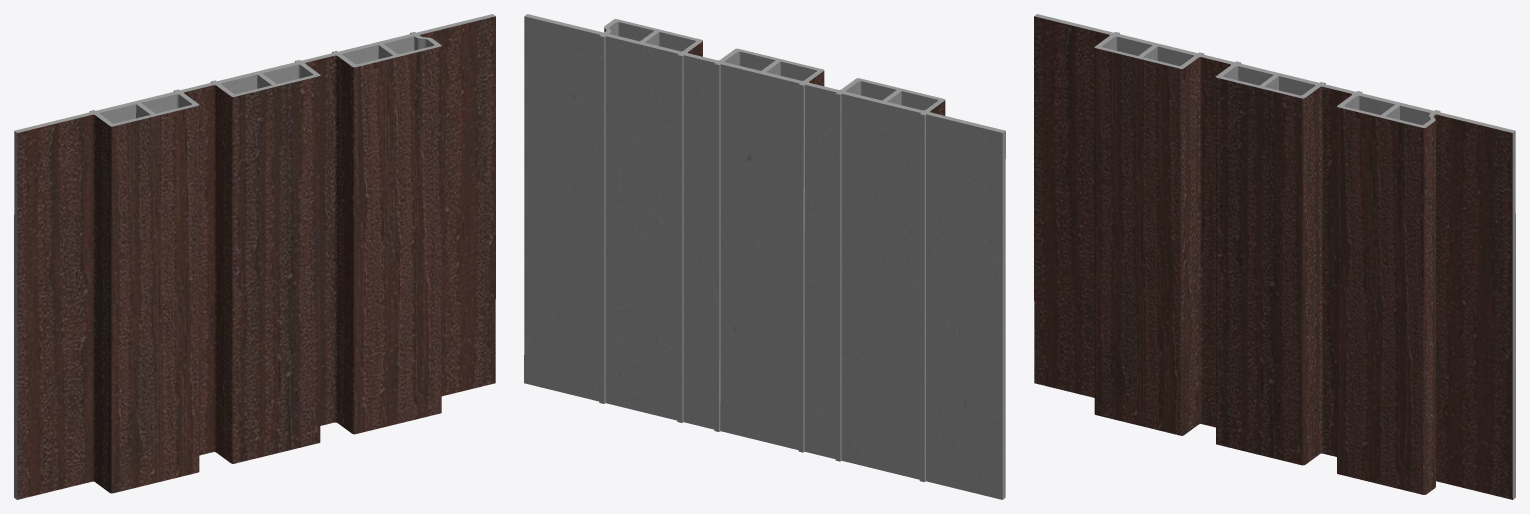
File: embrossluceviz.glb
The picture shows the model from 3 angles, left to right: view 1: azimuth 30°, elevation 25°; view 2: azimuth 150°, elevation 25°; view 3: azimuth 330°, elevation 25°; orthographic projection.
Parts seen in each view (by area): view 1: Plane.007; view 2: Plane.007; view 3: Plane.007.
Part boxes in pixels (box(x1,y1,x2,y2)): Plane.007: box(14, 14, 495, 499); Plane.007: box(524, 14, 1005, 499); Plane.007: box(1034, 14, 1515, 499).
Bounding box in the file's own units: 10.06 × 7.37 × 0.7962.
2 materials, 2 textured.
